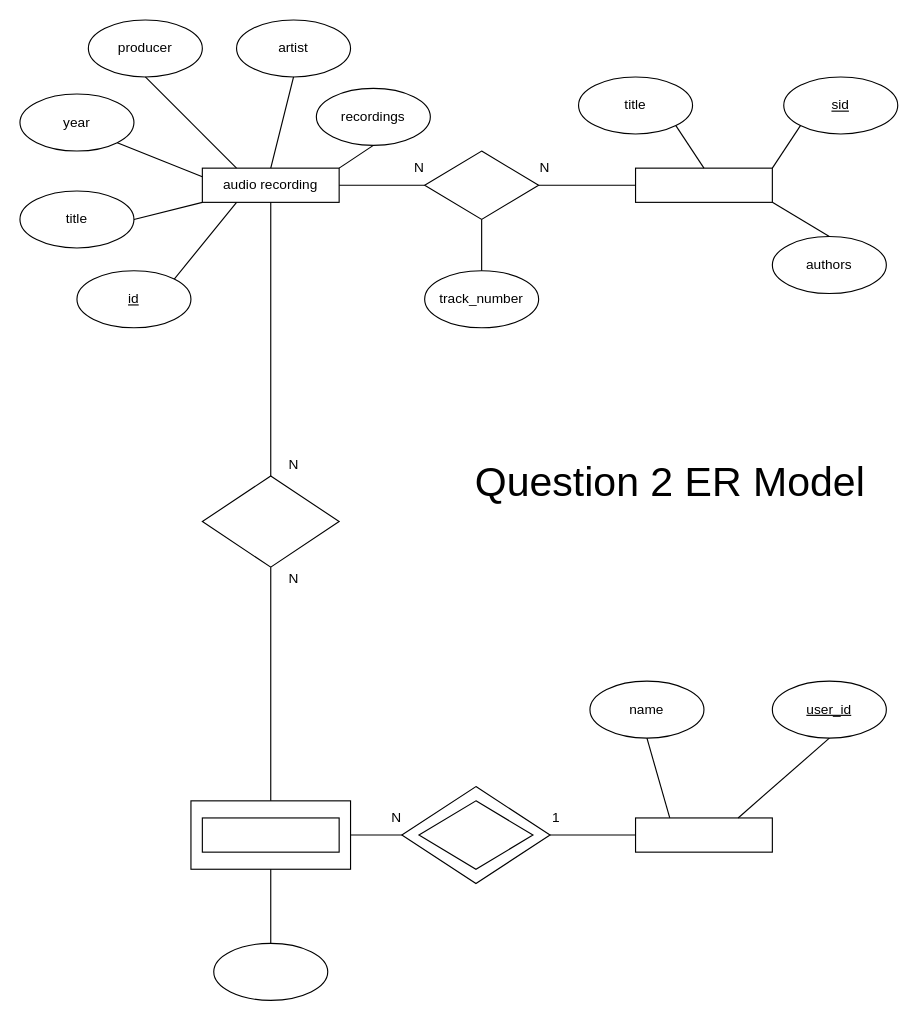
This 918x1020 diagram has some shape labels left out. The shapes that lost their labels are listed below. From the top down, each one's centre as x and y in pixels, then its label:
the point at 481,184: tracks
the point at 703,184: song
the point at 270,521: playlist_ tracks
the point at 270,834: playlists
the point at 703,834: users
the point at 270,971: playlist_name
